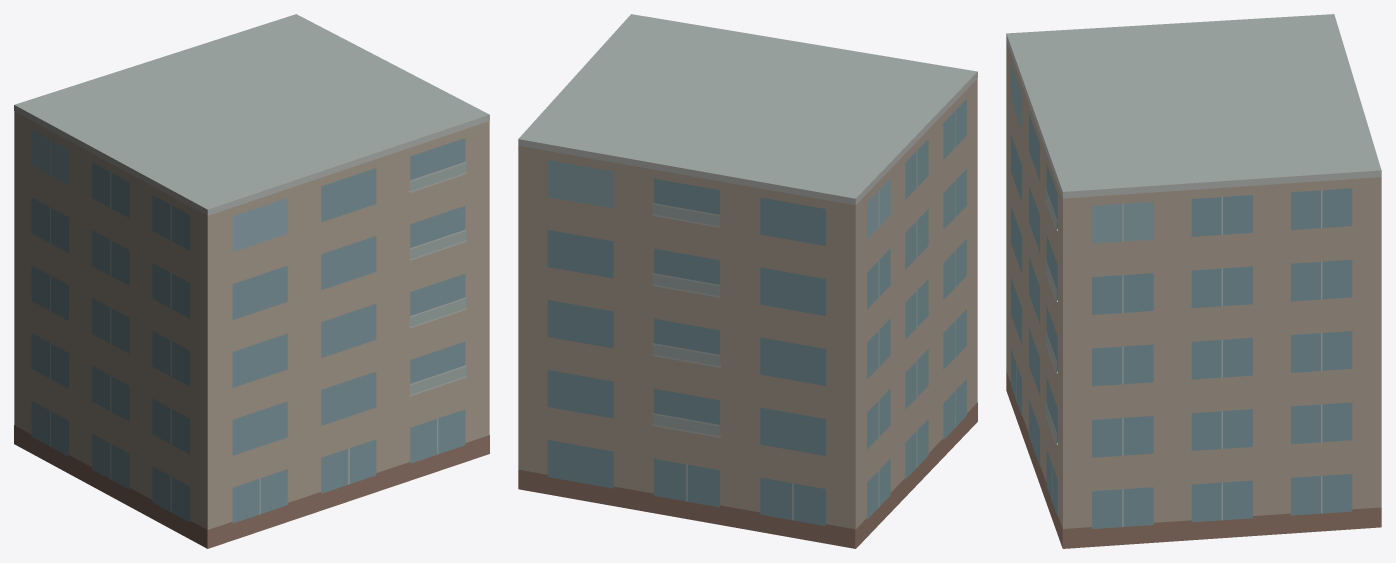
The model's file is survey-upis-33037644.glb.
3 renders of one model, left to right at view 1: azimuth 30°, elevation 25°; view 2: azimuth 150°, elevation 25°; view 3: azimuth 270°, elevation 25°, orthographic. The views are drawn at different scales.
Visible parts, largest first — view 1: survey-upis-33037644.tmp; view 2: survey-upis-33037644.tmp; view 3: survey-upis-33037644.tmp.
Boxes of the visible parts, box(x1,y1,x2,y2) form: survey-upis-33037644.tmp: box(14, 14, 489, 548); survey-upis-33037644.tmp: box(518, 14, 977, 548); survey-upis-33037644.tmp: box(1006, 14, 1381, 548).
Size of the model in its own units: 14.06 by 13.14 by 12.53.
